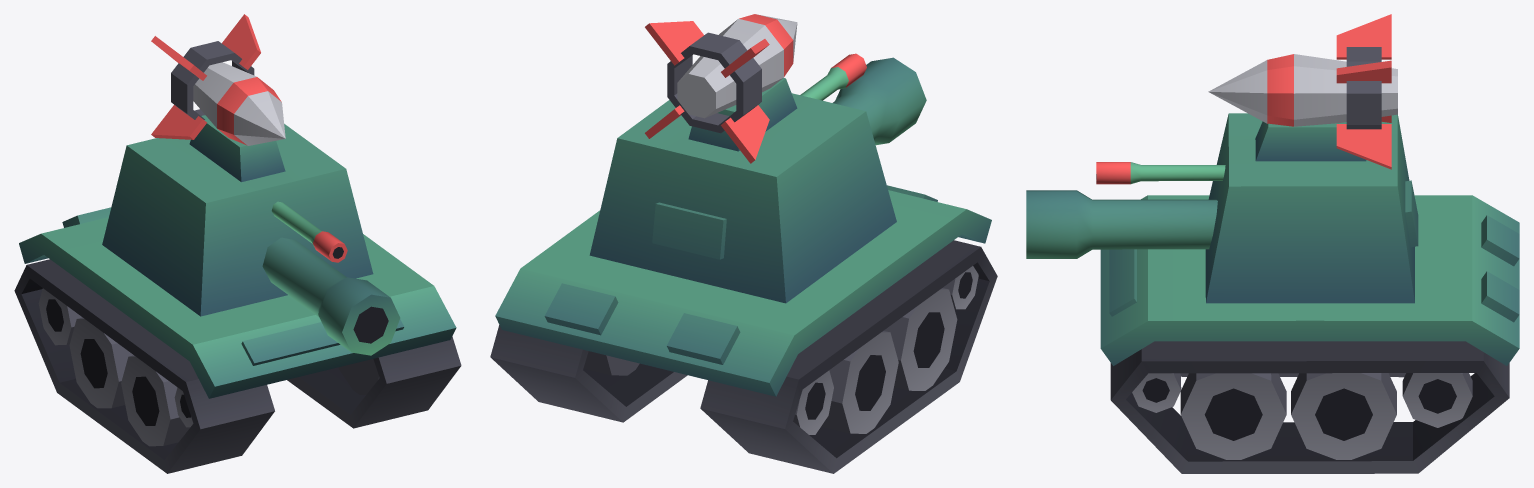
The model's file is Tank.fbx.
The picture shows the model from 3 angles, left to right: view 1: azimuth 30°, elevation 25°; view 2: azimuth 150°, elevation 25°; view 3: azimuth 270°, elevation 25°; orthographic projection. The views are drawn at different scales.
Visible parts, largest first — view 1: Tank_base, Tank_tower, Rocket; view 2: Tank_base, Tank_tower, Rocket; view 3: Tank_base, Tank_tower, Rocket.
Boxes of the visible parts, x1=… form: Tank_base: x1=14, y1=207, x2=461, y2=473; Tank_tower: x1=102, y1=115, x2=400, y2=355; Rocket: x1=151, y1=14, x2=285, y2=145; Tank_base: x1=490, y1=185, x2=997, y2=473; Tank_tower: x1=589, y1=53, x2=926, y2=303; Rocket: x1=645, y1=14, x2=797, y2=163; Tank_base: x1=1100, y1=195, x2=1519, y2=473; Tank_tower: x1=1026, y1=113, x2=1418, y2=303; Rocket: x1=1208, y1=14, x2=1397, y2=169.
Size of what is drawn, in the model's own units: 309 by 390 by 473.
